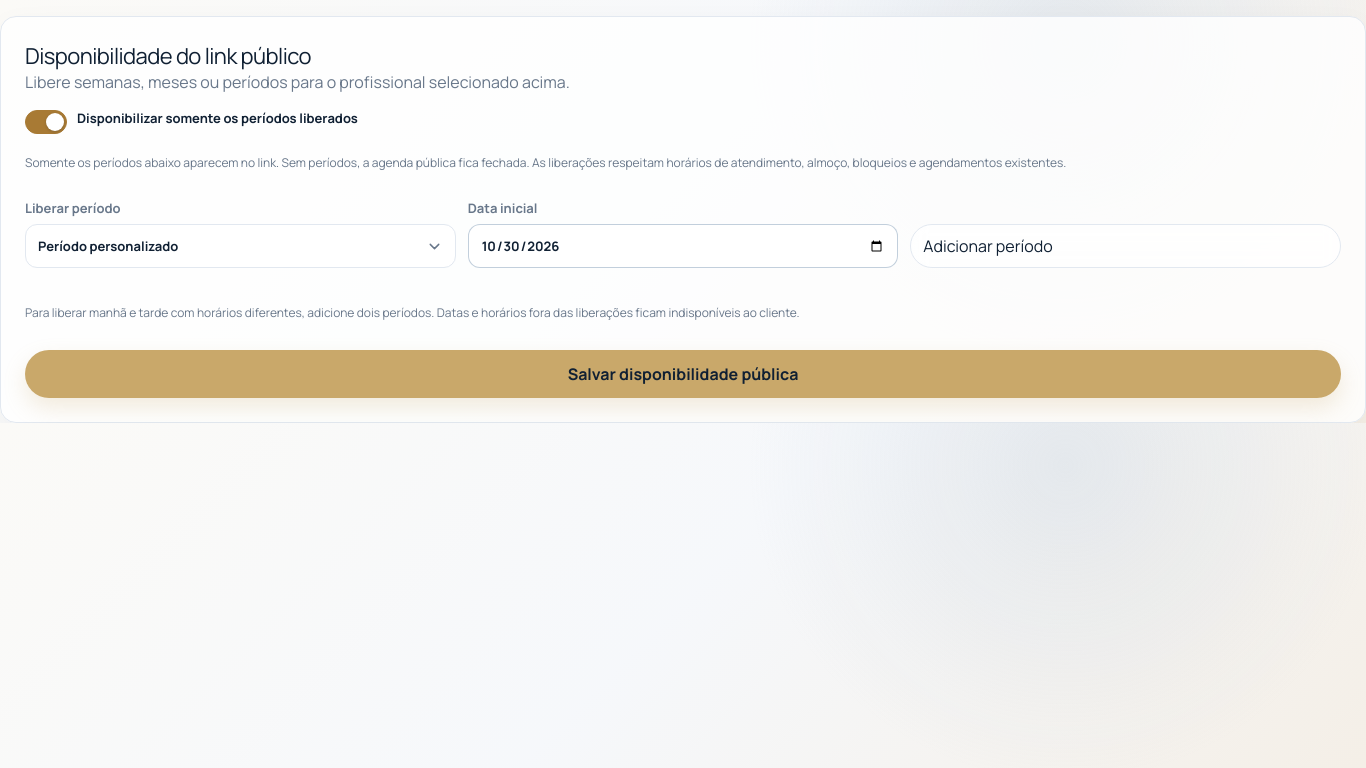
Test: Liberação de agenda pública › libera a semana escolhida de segunda a domingo e aceita outro período personalizado
Expected: the button "Adicionar período" is shown, [910,224,1341,268]
Click the dropdown named "Liberar período": [108, 246] box [25,224,456,268]
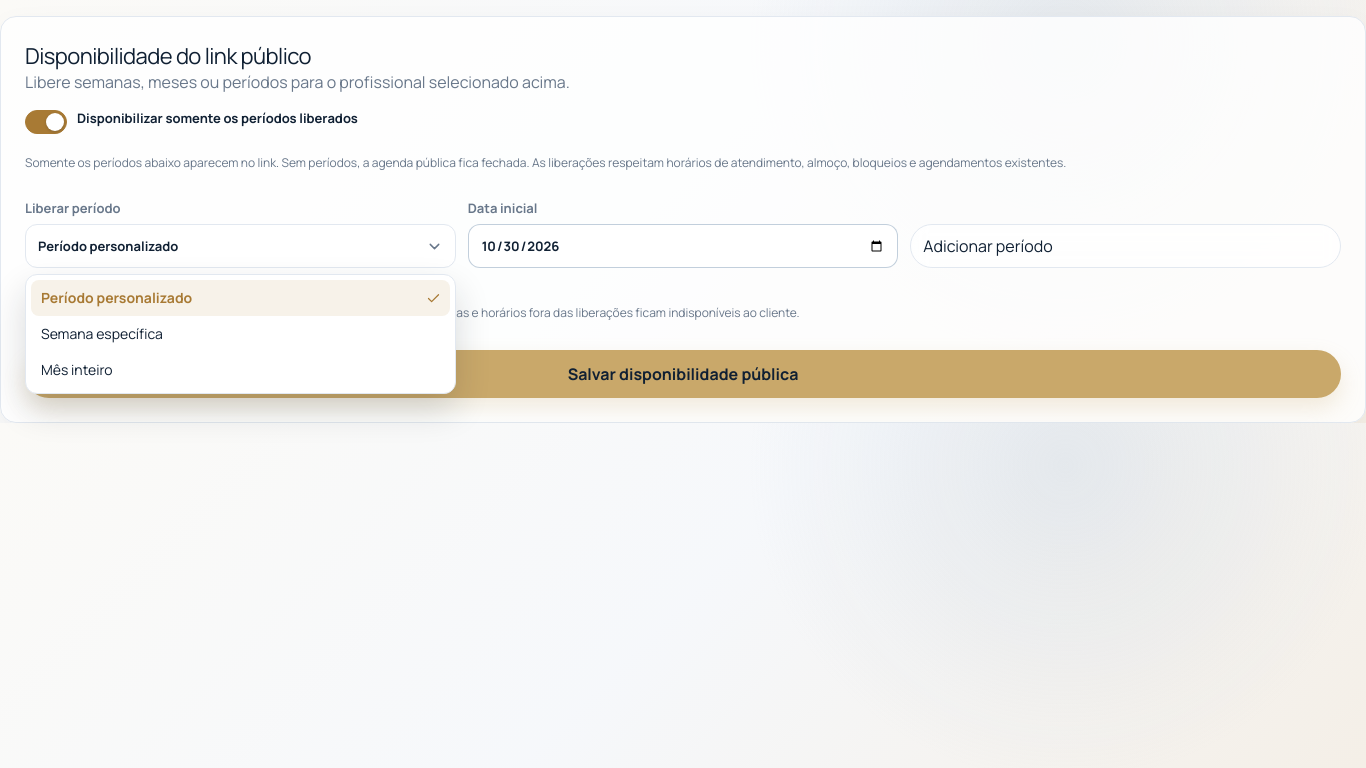
Click the option "Semana específica": [102, 334] box [41,324,163,343]
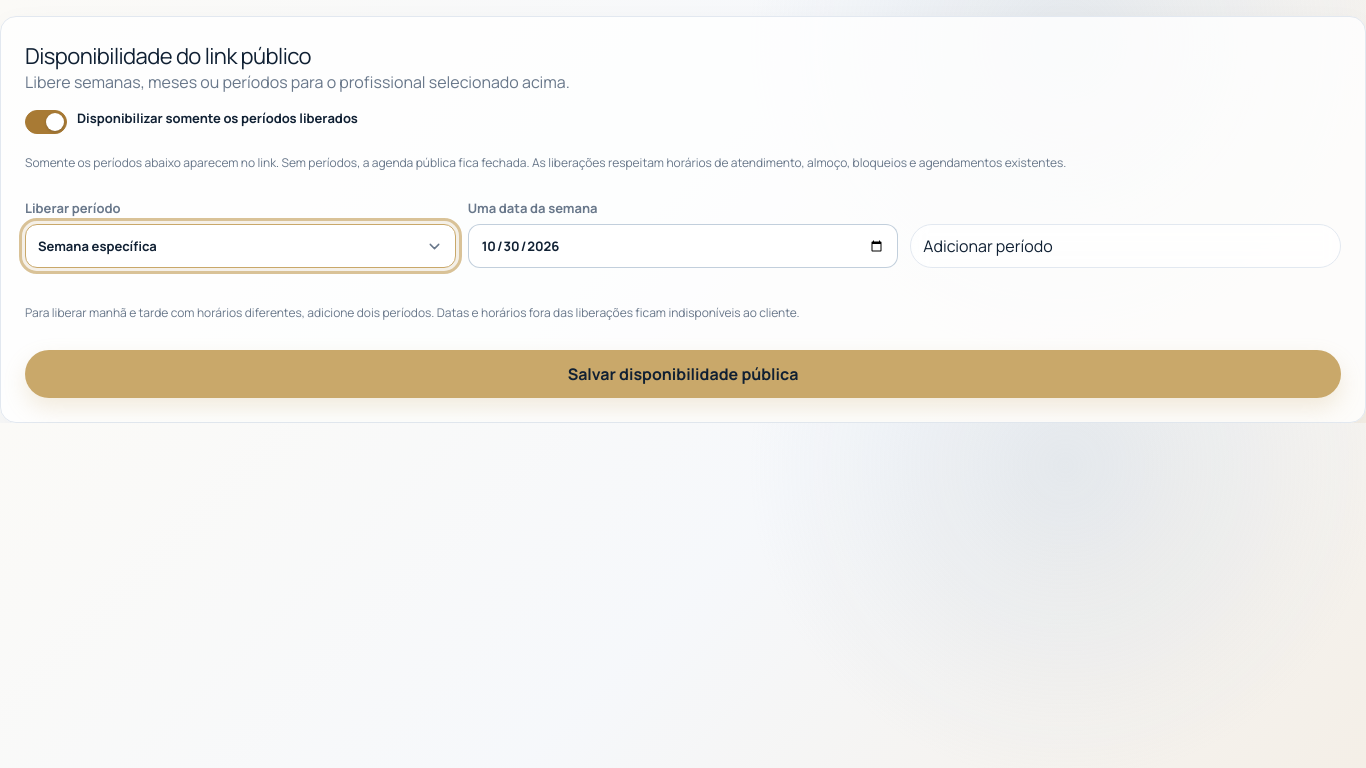
In the date field labelled "Uma data da semana": [683, 246] box [468,224,898,268], type "2030-11-06"
Click the button "Adicionar período": [988, 246] box [910,224,1341,268]
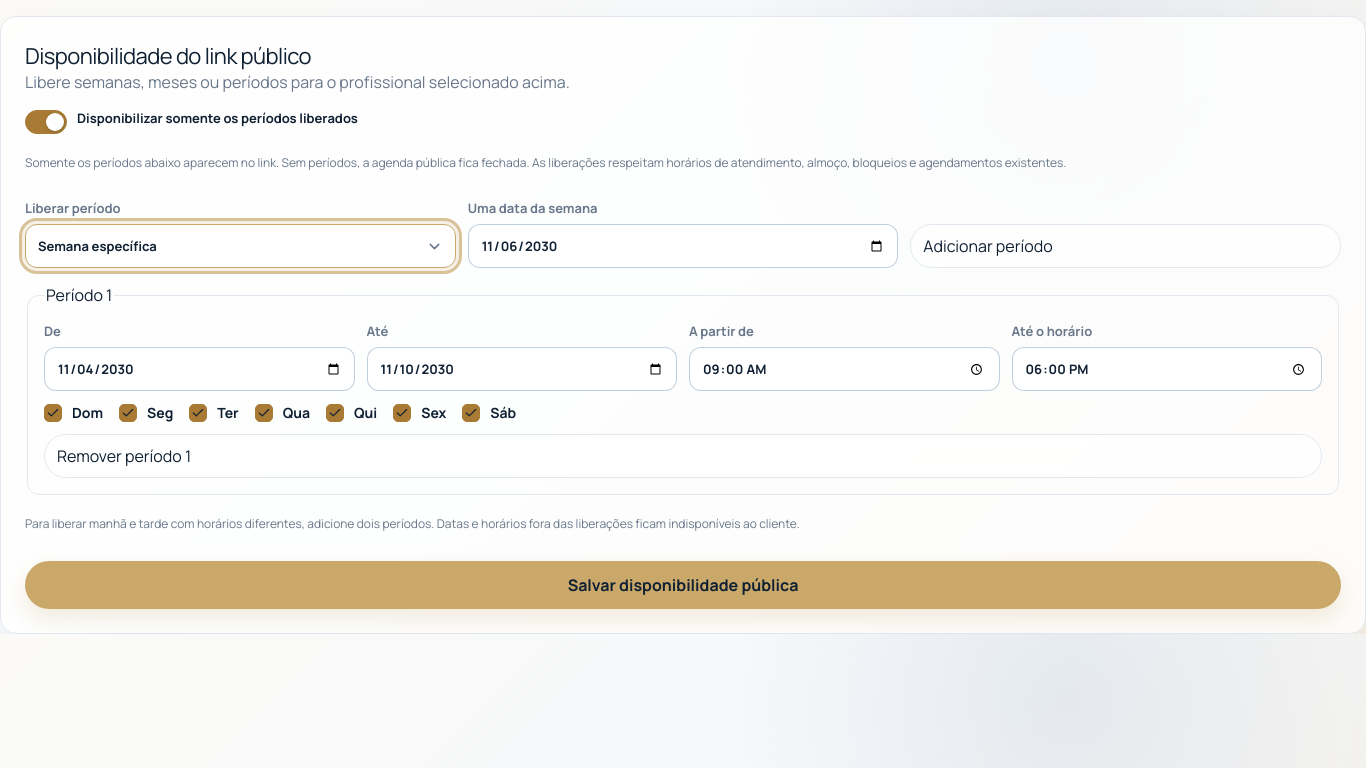
Expected: the date field labelled "De" holds "2030-11-04", [44,347,354,391]
Expected: the date field labelled "Até" holds "2030-11-10", [366,347,677,391]
Click the dropdown named "Liberar período": [97, 246] box [25,224,456,268]
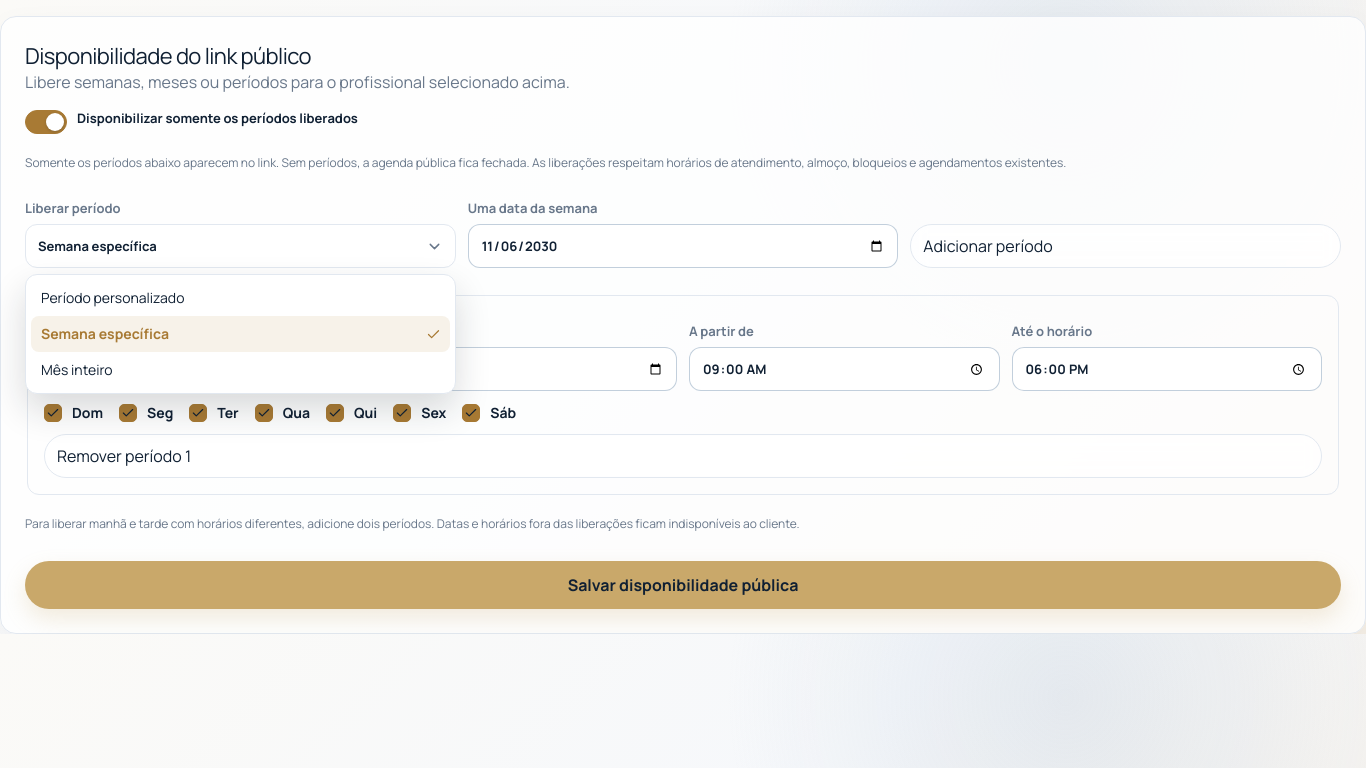
Click the option "Período personalizado": [113, 298] box [41,288,184,307]
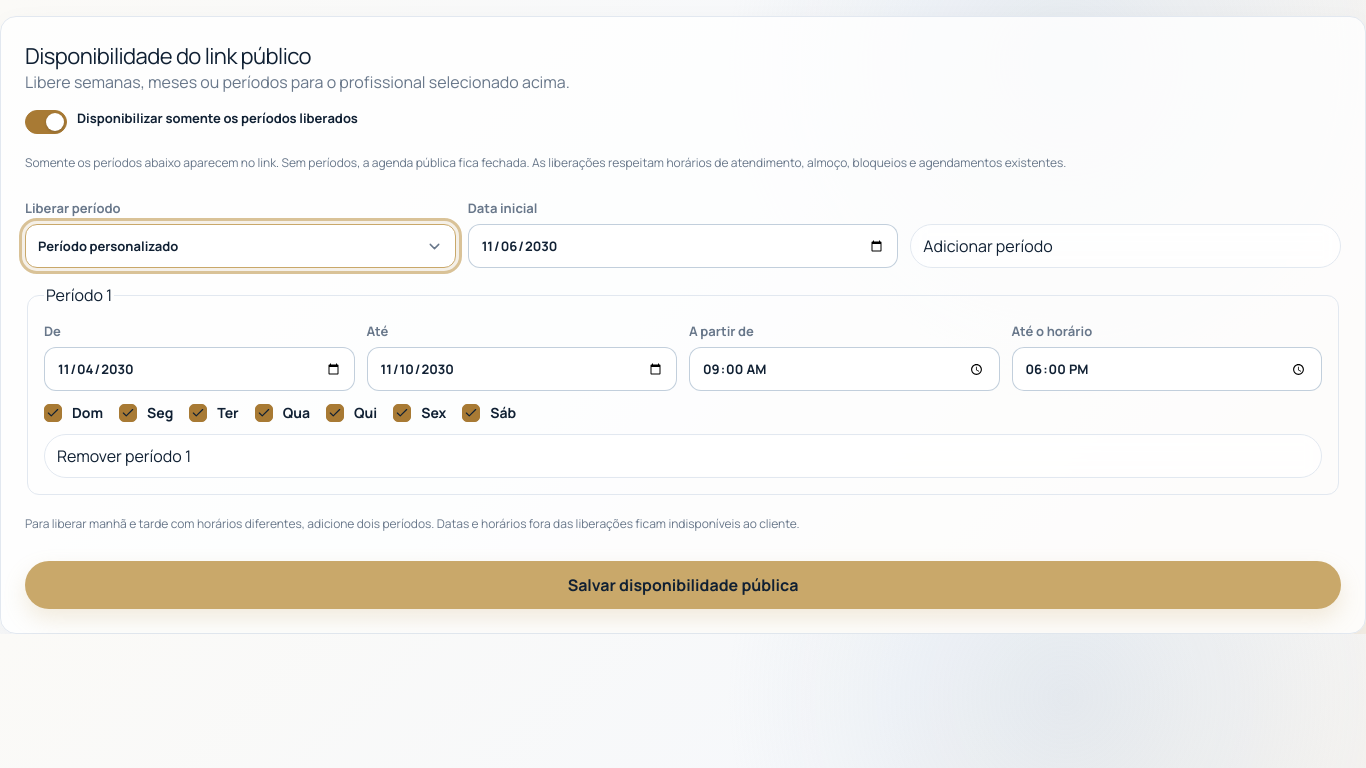
Click the button "Adicionar período": [988, 246] box [910,224,1341,268]
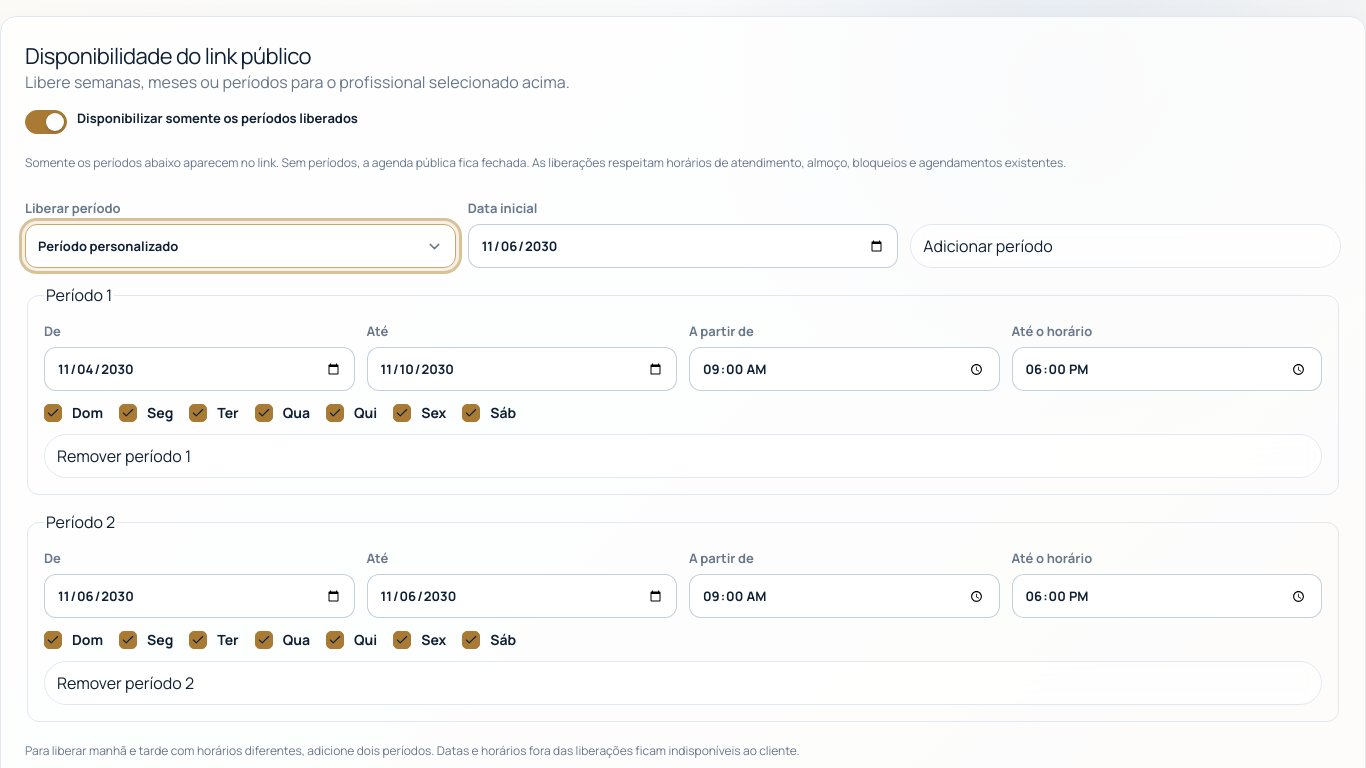
Expected: the number of date fields labelled "De" is 2, [44,347,354,391]; [44,574,354,618]
